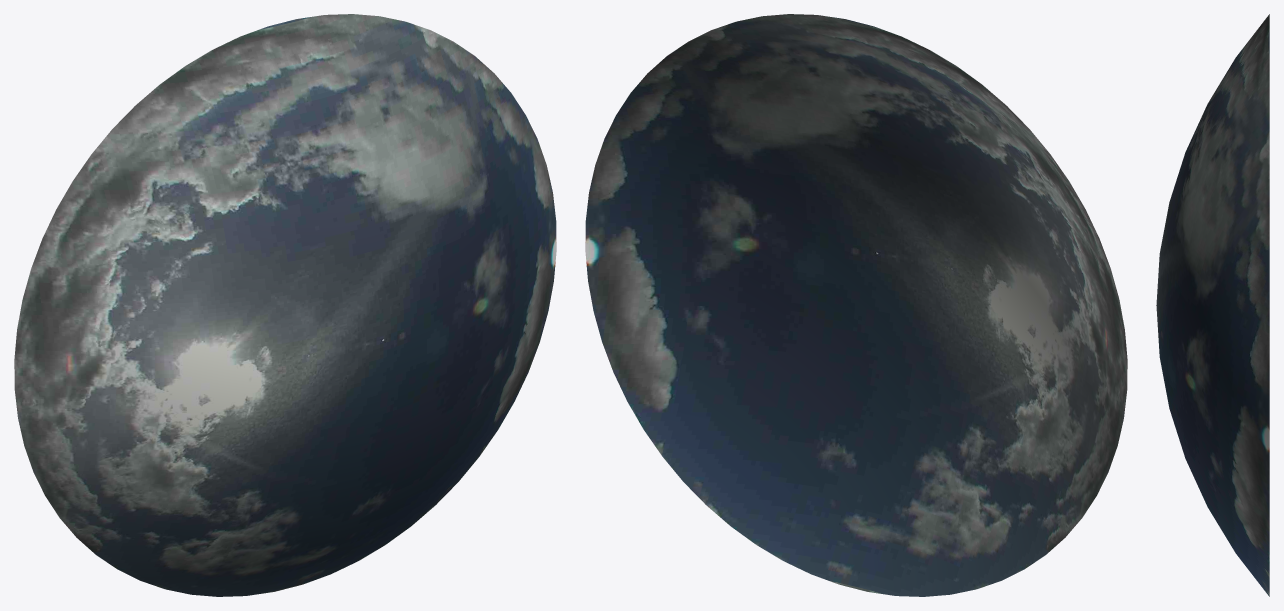
Rendered from SKY1.obj.
3 views of the same model, side by side, from view 1: azimuth 30°, elevation 25°; view 2: azimuth 150°, elevation 25°; view 3: azimuth 270°, elevation 25° (orthographic). The views are drawn at different scales.
Parts seen in each view (by area): view 1: object; view 2: object; view 3: object.
Boxes of the visible parts, box(x1,y1,x2,y2) form: object: box(14, 14, 556, 596); object: box(585, 14, 1127, 596); object: box(1156, 14, 1269, 596).
Bounding box in the file's own units: 50864 × 50864 × 9863.
1 material, 1 textured.
